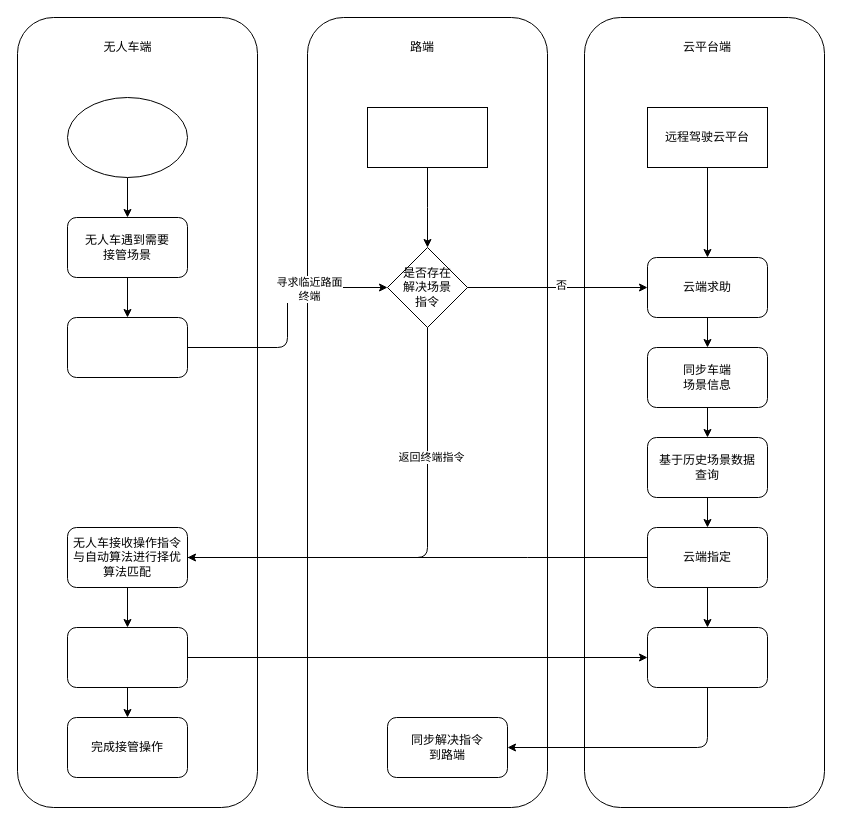
This 842x825 diagram has some shape labels left out. Here are the shapes that lost their labels. From the top down, the centre of each, then its label:
At point (127, 137): "开始".
At point (427, 137): "路面终端".
At point (127, 347): "发起需要接管 任务申请".
At point (127, 657): "确认最终执行 指令".
At point (707, 657): "确认执行指令".
